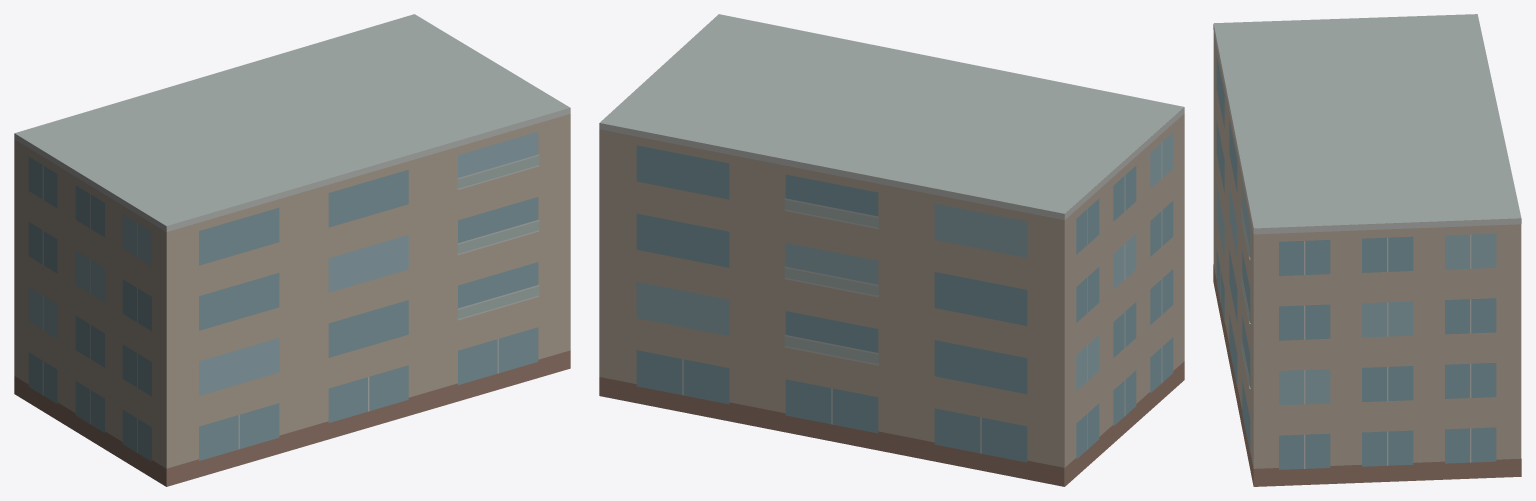
Rendered from survey-upis-32915121.glb.
3 views of the same model, side by side, from view 1: azimuth 30°, elevation 25°; view 2: azimuth 150°, elevation 25°; view 3: azimuth 270°, elevation 25° (orthographic). The views are drawn at different scales.
Visible parts, largest first — view 1: survey-upis-32915121.tmp; view 2: survey-upis-32915121.tmp; view 3: survey-upis-32915121.tmp.
Part boxes in pixels (x1,y1,x2,y2): survey-upis-32915121.tmp: (14, 14, 570, 486); survey-upis-32915121.tmp: (599, 14, 1184, 486); survey-upis-32915121.tmp: (1213, 14, 1521, 486).
Bounding box in the file's own units: 18.69 × 10.5 × 11.35.
